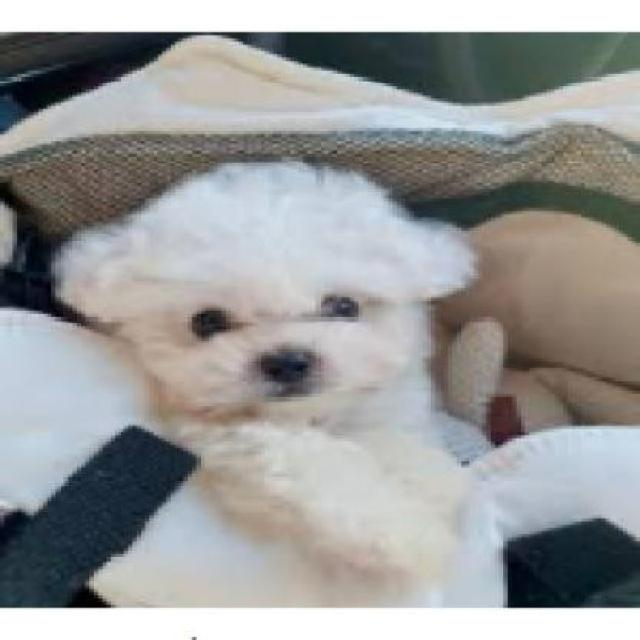Dog: (46, 162, 509, 606)
